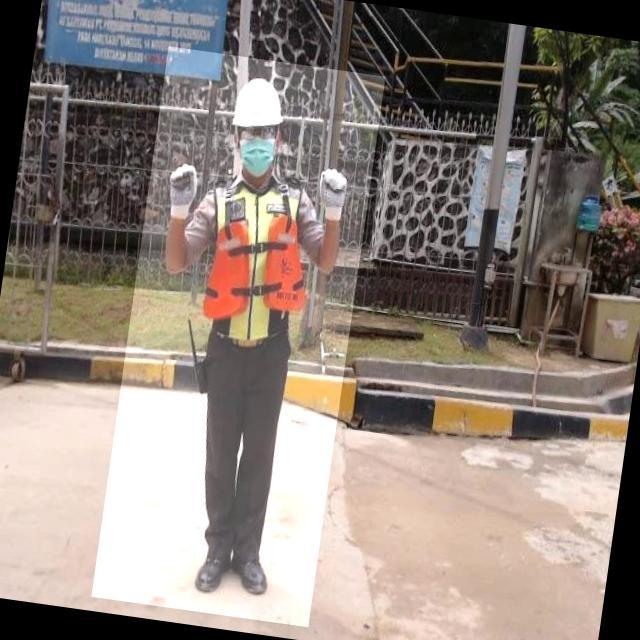Gloves: (165, 152, 204, 226), (313, 160, 355, 227)
Helmet: (227, 72, 293, 140)
Person: (148, 54, 365, 614)
Safety Boot: (228, 548, 276, 600), (194, 543, 236, 601)
Safety Vest: (189, 170, 325, 355)
